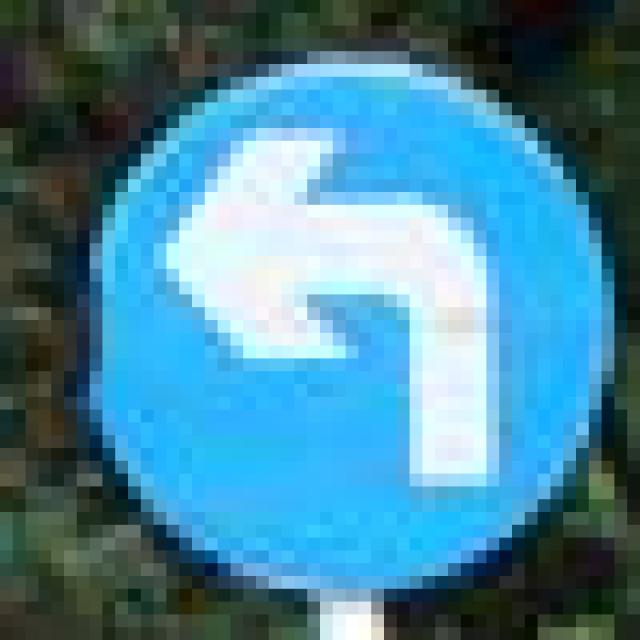COMPULSARY_TURN_LEFT: (76, 38, 602, 576)
